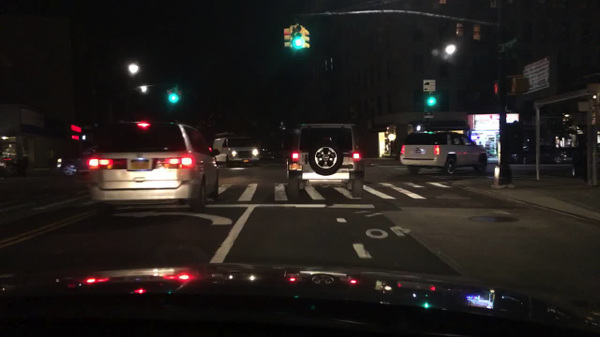car: (85, 120, 218, 216), (285, 123, 365, 200), (398, 131, 486, 176), (212, 132, 259, 168), (506, 145, 574, 164), (571, 143, 598, 178), (64, 148, 96, 176), (0, 154, 30, 177), (49, 154, 64, 174), (259, 150, 275, 160)
traffic light: (289, 26, 303, 50), (302, 27, 310, 50), (169, 86, 178, 106), (283, 26, 290, 48), (425, 96, 437, 107), (162, 90, 169, 107), (177, 88, 184, 105), (492, 81, 497, 96)
traffic sign: (520, 59, 546, 96), (422, 78, 435, 93), (472, 25, 481, 41), (532, 100, 542, 112), (507, 38, 518, 48), (455, 23, 462, 37), (578, 103, 588, 112), (423, 112, 433, 118), (502, 254, 504, 260)
